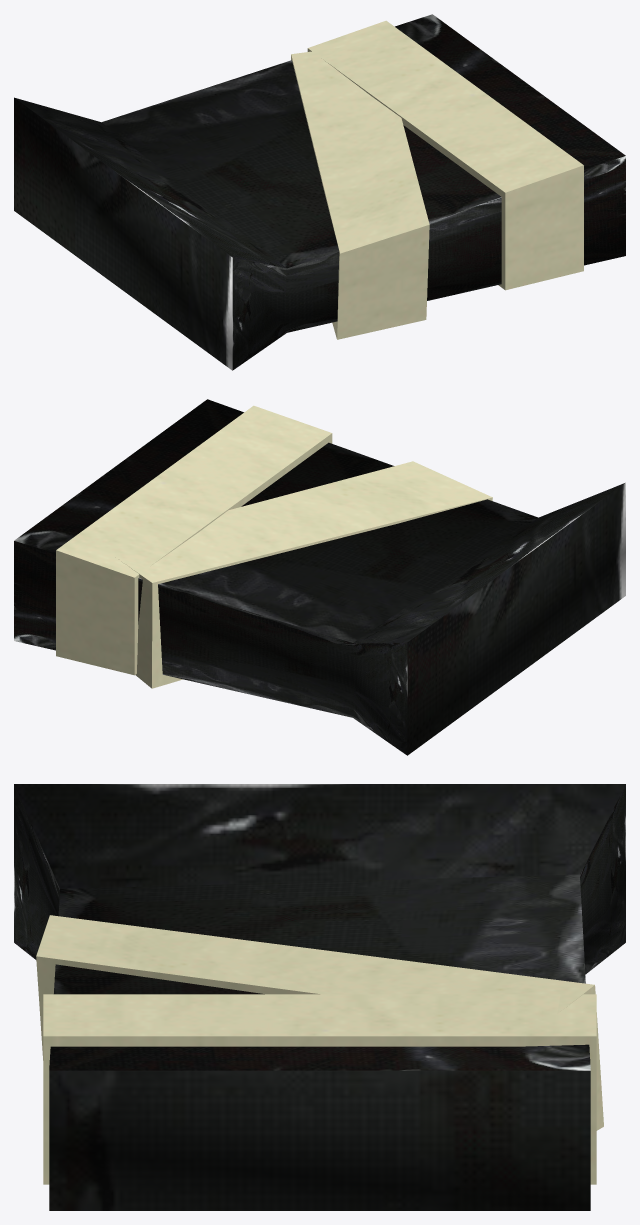
Rendered from strange_package.fbx.
The picture shows the model from 3 angles, top to bottom: view 1: azimuth 30°, elevation 25°; view 2: azimuth 150°, elevation 25°; view 3: azimuth 270°, elevation 25°; orthographic projection. The views are drawn at different scales.
Parts seen in each view (by area): view 1: Cube.005; view 2: Cube.005; view 3: Cube.005.
Boxes of the visible parts, <box> form: Cube.005: <box>14,14,625,370</box>; Cube.005: <box>14,399,625,755</box>; Cube.005: <box>14,784,625,1210</box>.
Bounding box in the file's own units: 83.14 × 24.12 × 77.52.
